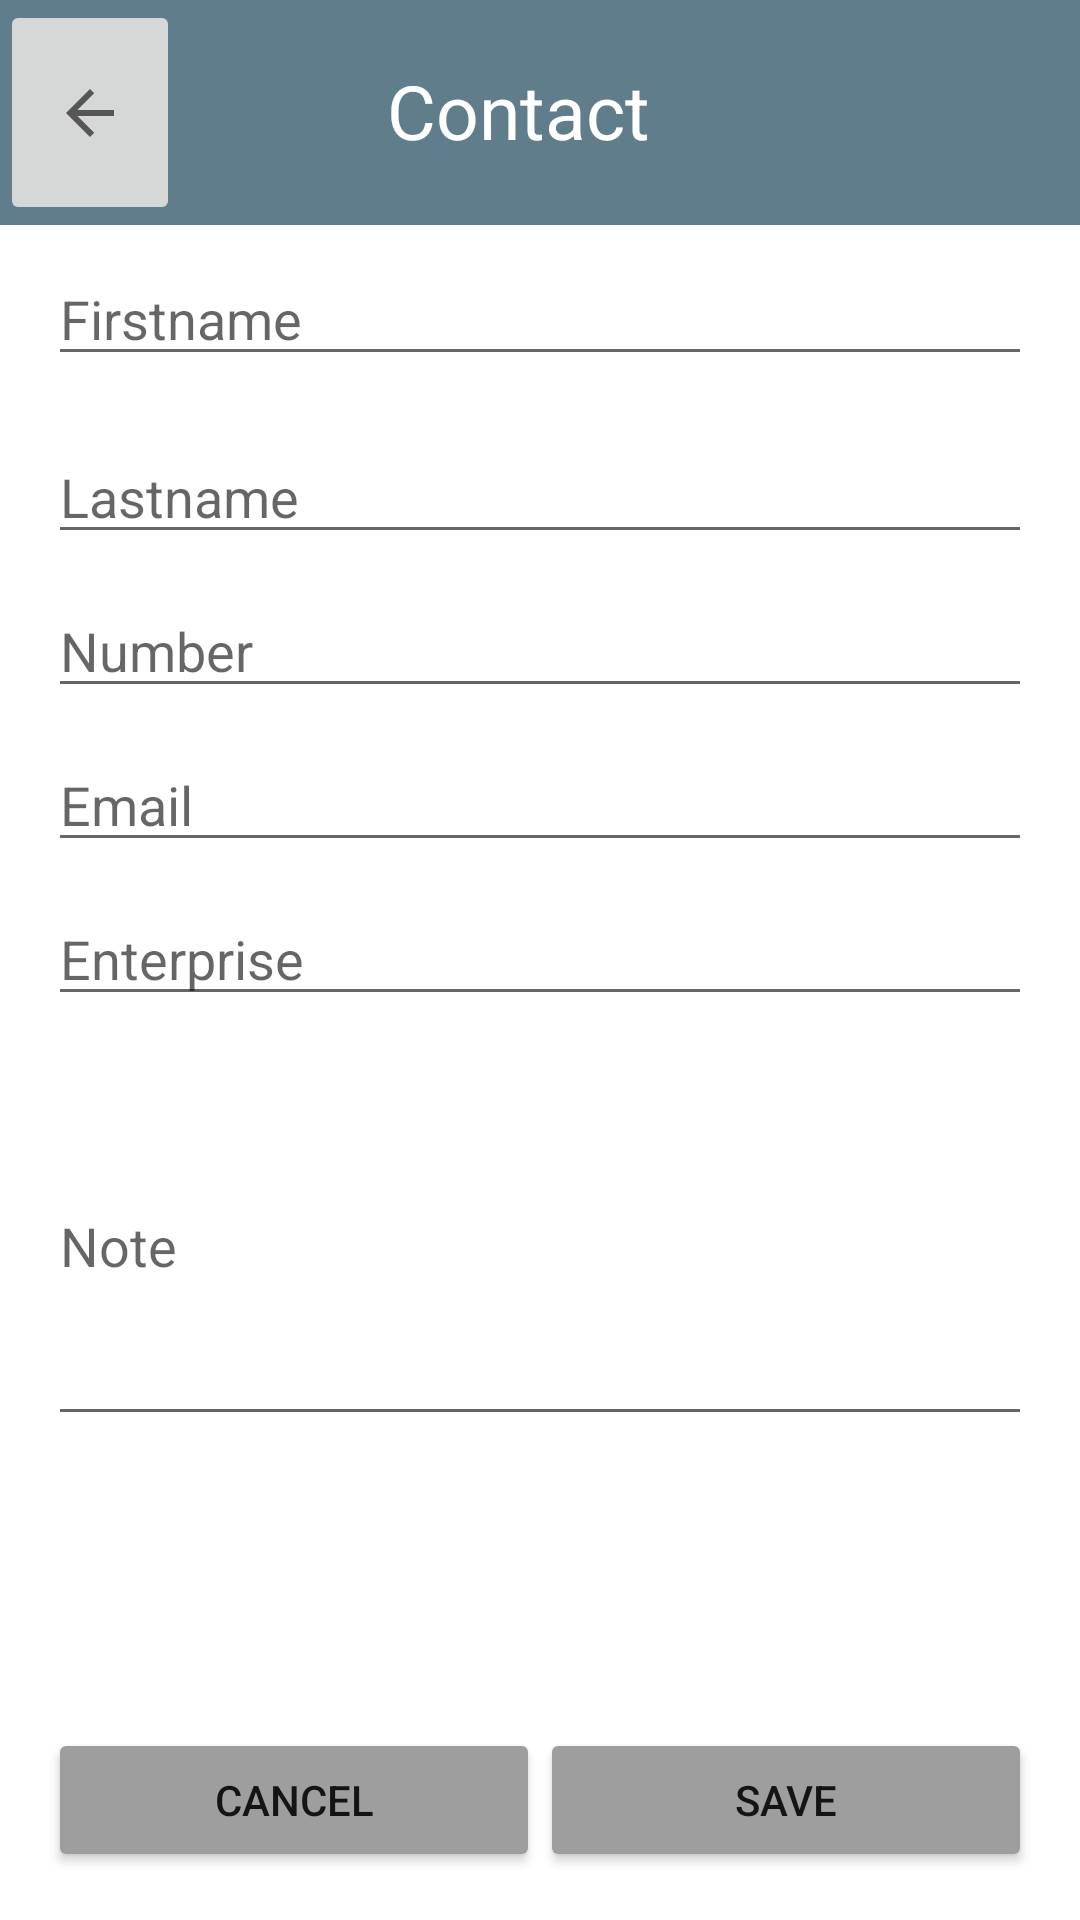

Screen size 1080×1920. Icon name, then its box in pixels as [left=x1, top=y1, right=x2, bottom=y2]:
Button back: [left=12, top=18, right=168, bottom=207]
